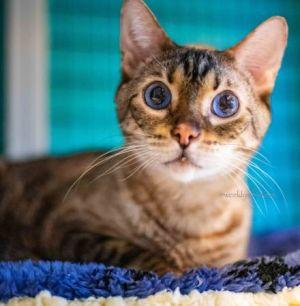bengal: (104, 1, 295, 186)
